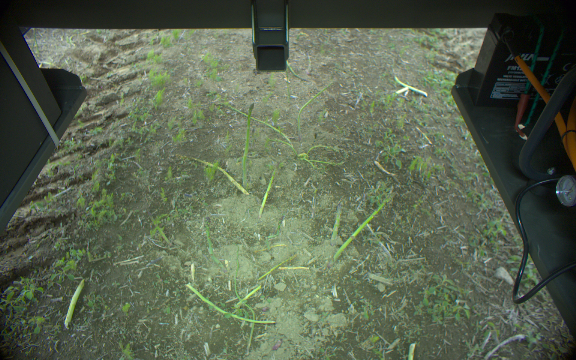aspa: (330, 189, 399, 260), (184, 283, 274, 326), (241, 100, 259, 192), (254, 161, 280, 218), (201, 222, 227, 275), (63, 277, 86, 331), (331, 201, 344, 250)
